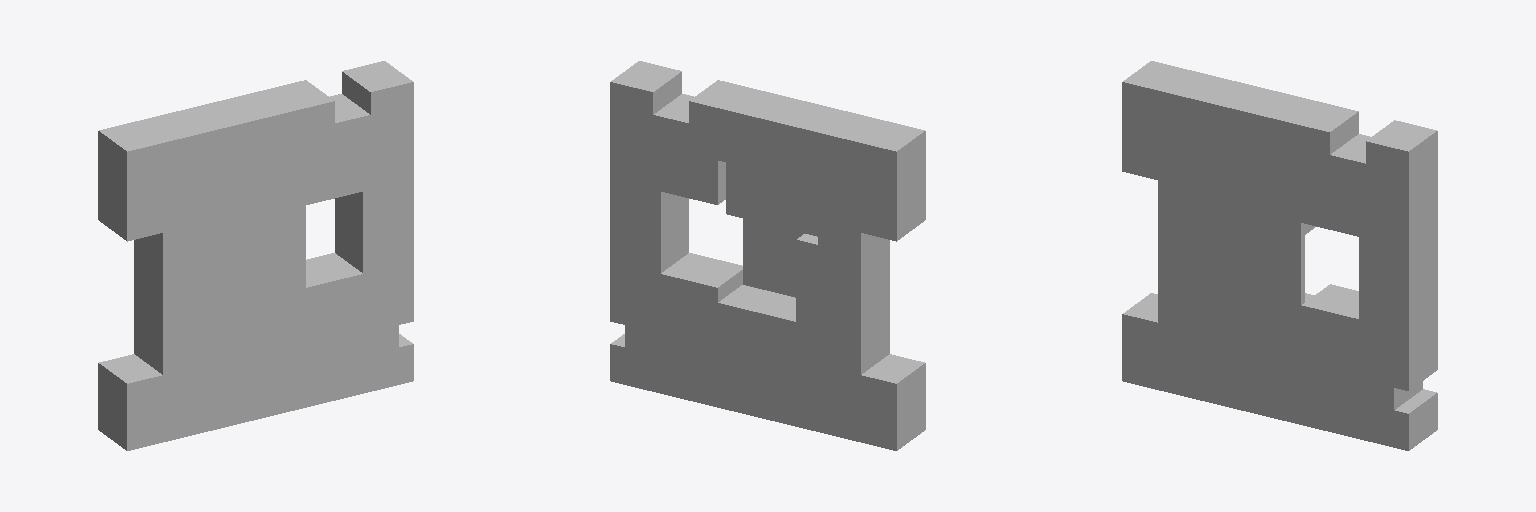
Rendered from wall1.obj.
3 renders of one model, left to right at view 1: azimuth 30°, elevation 25°; view 2: azimuth 150°, elevation 25°; view 3: azimuth 330°, elevation 25°, orthographic.
Visible parts, largest first — view 1: object 1; view 2: object 1; view 3: object 1.
Boxes of the visible parts, box(x1,y1,x2,y2) form: object 1: box(98, 61, 413, 450); object 1: box(610, 61, 925, 450); object 1: box(1122, 61, 1437, 450).
Bounding box in the file's own units: 4 × 4 × 0.7.